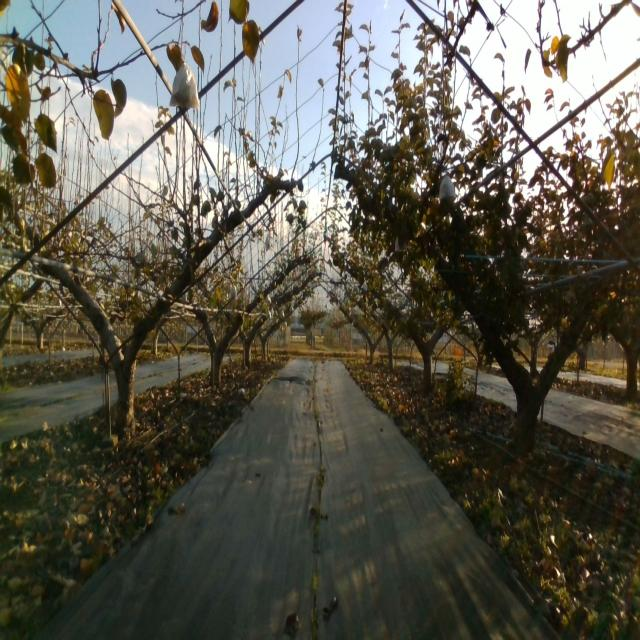pearbags: (169, 62, 200, 110), (438, 176, 456, 199)
